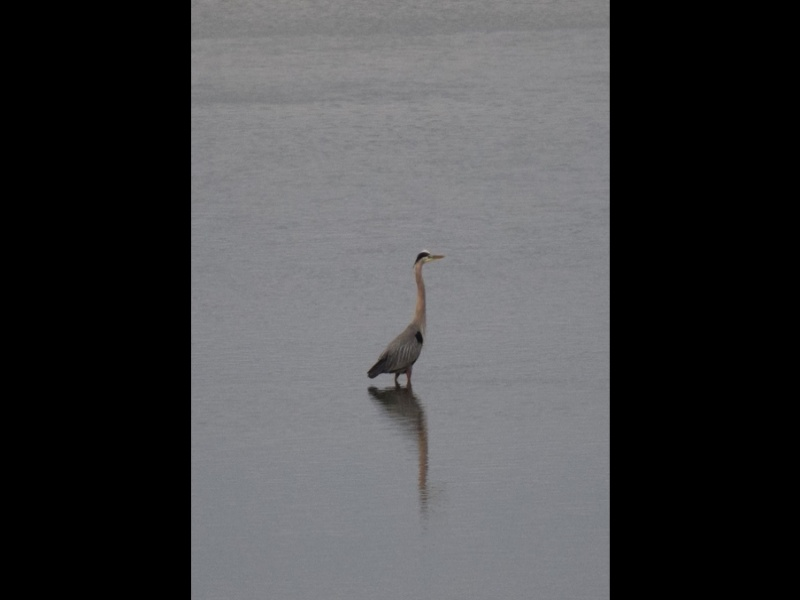heron: (366, 247, 448, 388)
